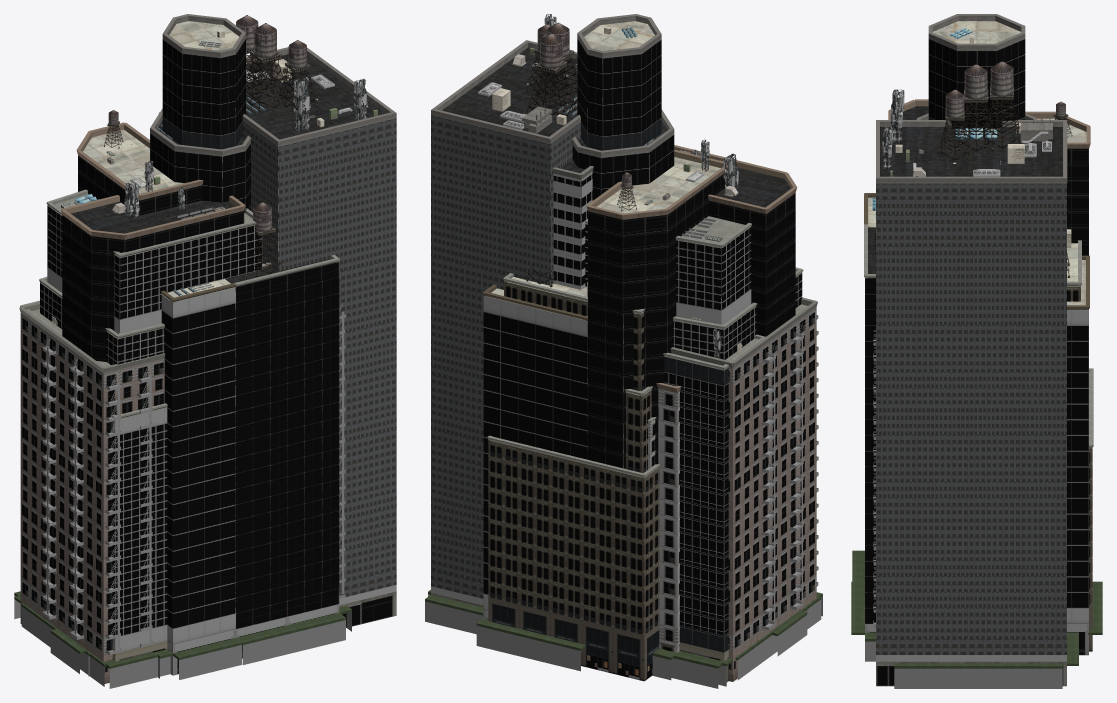
Rendered from bld_fin.glb.
3 renders of one model, left to right at view 1: azimuth 30°, elevation 25°; view 2: azimuth 150°, elevation 25°; view 3: azimuth 270°, elevation 25°, orthographic.
Visible parts, largest first — view 1: fin_02, fin_01, fin_03, fin_07, fin_12; view 2: fin_02, fin_01, fin_09, fin_12, fin_03, fin_07, fin_04; view 3: fin_02, fin_01, fin_07, fin_03, fin_09, fin_12.
Part boxes in pixels (x1,y1,x2,y2): fin_02: (21,15,396,686); fin_01: (76,110,351,679); fin_03: (14,302,345,688); fin_07: (150,14,250,213); fin_12: (14,112,278,676); fin_02: (425,14,821,680); fin_01: (476,139,729,671); fin_09: (487,244,659,681); fin_12: (428,144,807,688); fin_03: (670,297,822,686); fin_07: (572,14,674,215); fin_04: (652,383,681,680); fin_02: (876,61,1078,686); fin_01: (851,101,1102,661); fin_07: (916,14,1037,129); fin_03: (873,330,1036,688); fin_09: (860,229,1093,651); fin_12: (888,99,1062,688).
Bounding box in the file's own units: 61.15 × 112 × 43.52.
23 materials, 20 textured.
